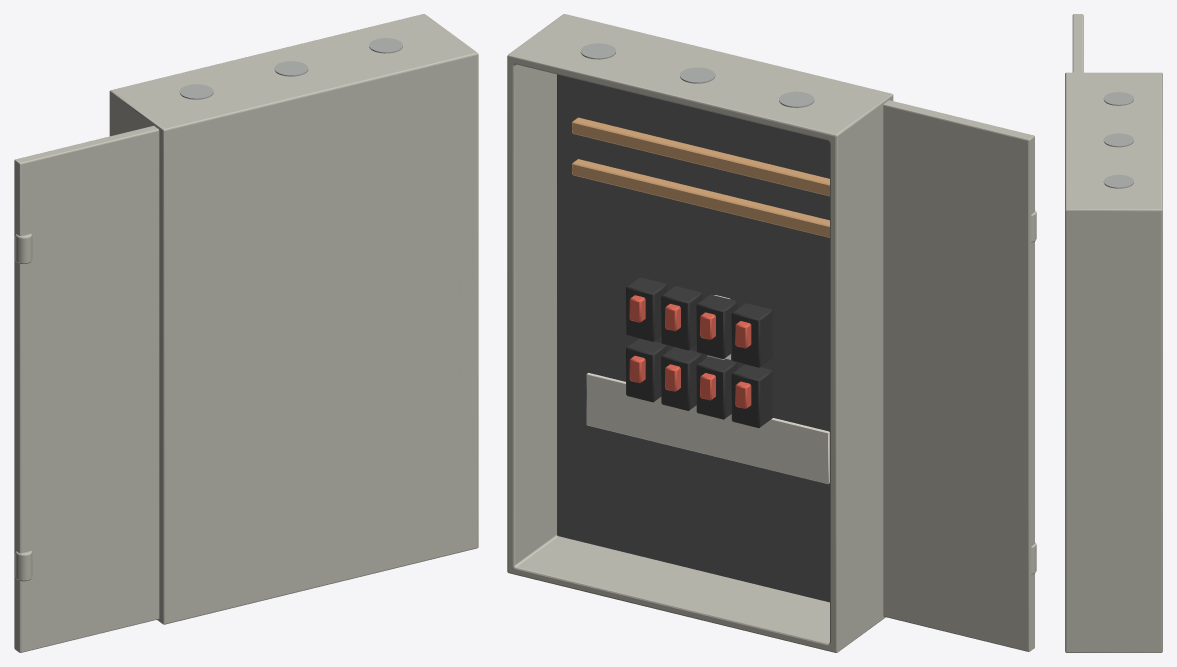
The model's file is breaker_panel.glb.
3 views of the same model, side by side, from view 1: azimuth 30°, elevation 25°; view 2: azimuth 150°, elevation 25°; view 3: azimuth 270°, elevation 25° (orthographic). The views are drawn at different scales.
Parts seen in each view (by area): view 1: Enclosure, DoorLeaf, Knockouts; view 2: Backplate, Enclosure, DoorLeaf, LabelPlate, Busbars, switch_0, switch_4, switch_1, switch_2, switch_3, switch_6, switch_7 (+2 smaller); view 3: Enclosure, Knockouts, DoorLeaf.
Part boxes in pixels (left/top/right/bottom): Enclosure: left=109, top=14, right=478, bottom=624; DoorLeaf: left=14, top=125, right=159, bottom=652; Knockouts: left=179, top=38, right=402, bottom=99; Backplate: left=557, top=74, right=829, bottom=602; Enclosure: left=507, top=14, right=893, bottom=652; DoorLeaf: left=883, top=100, right=1036, bottom=651; LabelPlate: left=586, top=373, right=829, bottom=483; Busbars: left=572, top=117, right=829, bottom=237; switch_0: left=731, top=303, right=772, bottom=367; switch_4: left=731, top=364, right=772, bottom=427; switch_1: left=696, top=294, right=737, bottom=358; switch_2: left=661, top=286, right=702, bottom=350; switch_3: left=626, top=277, right=667, bottom=341; switch_6: left=661, top=347, right=702, bottom=410; switch_7: left=626, top=338, right=667, bottom=402; Enclosure: left=1065, top=72, right=1162, bottom=652; Knockouts: left=1103, top=92, right=1133, bottom=188; DoorLeaf: left=1072, top=14, right=1083, bottom=72.
Bounding box in the file's own units: 0.868 × 0.9021 × 0.18.
